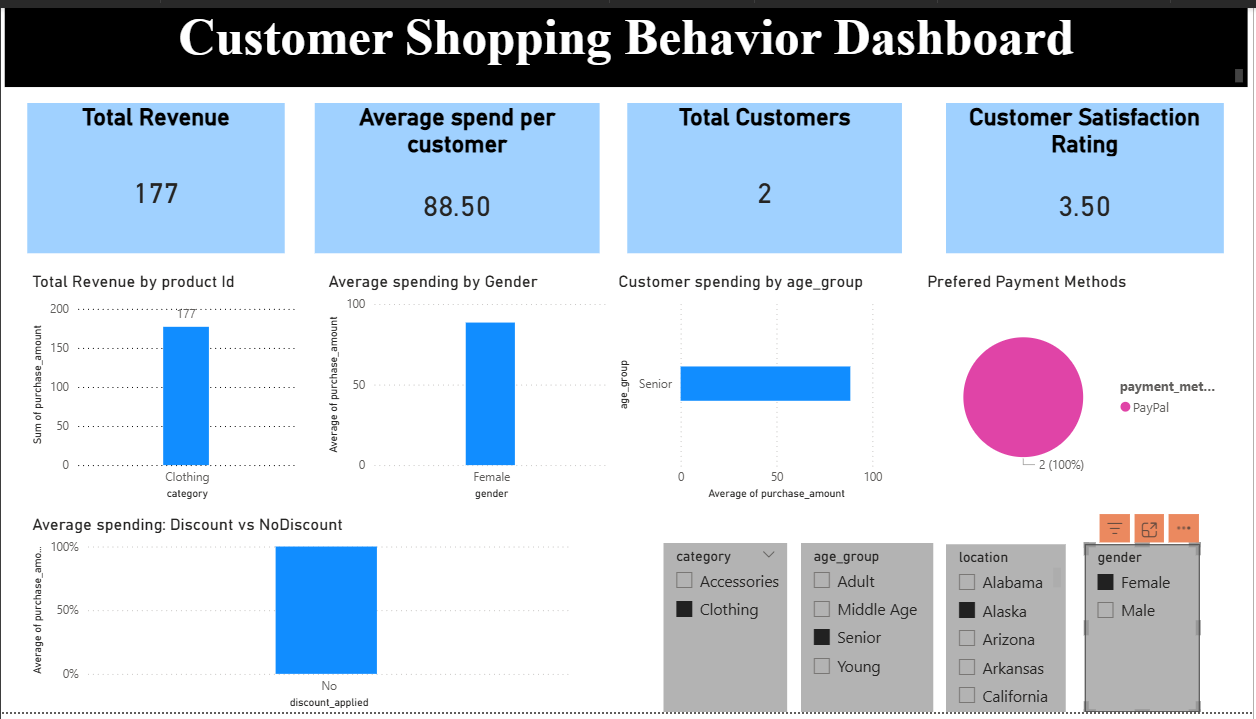

Layout of this report page (visuals, bound fields, positions):
{"tool":"powerbi","page":{"name":"Project_01","canvas":[1280,720],"ordinal":0},"visuals":[{"type":"textbox","title":"Customer  Shopping Behavior Dashboard","box":[4.1,0,1270.7,81],"z":0},{"type":"card","title":"Total Revenue","fields":{"Values":["Sum(customer_data.purchase_amount)"]},"box":[26.8,97.1,263.2,153.3],"z":1000},{"type":"card","title":"Average spend per customer","fields":{"Values":["Avg(customer_data.purchase_amount)"]},"box":[320.7,97.1,291.3,153.3],"z":2000},{"type":"card","title":"Total Customers","fields":{"Values":["CountNonNull(customer_data.customer_id)"]},"box":[640.1,97.1,281.1,153.3],"z":3000},{"type":"card","title":"Customer Satisfaction Rating","fields":{"Values":["Avg(customer_data.review_rating)"]},"box":[965.9,97.1,283.7,153.3],"z":4000},{"type":"columnChart","title":"Total Revenue by product Id","fields":{"Category":["customer_data.category"],"Y":["Sum(customer_data.purchase_amount)"]},"box":[26.8,269.6,279.8,237.7],"z":5000},{"type":"columnChart","title":"Average spending by Gender","fields":{"Category":["customer_data.gender"],"Y":["Avg(customer_data.purchase_amount)"]},"box":[329.6,269.6,296.4,237.7],"z":6000},{"type":"barChart","title":"Customer spending by age_group","fields":{"Category":["customer_data.age_group"],"Y":["Avg(customer_data.purchase_amount)"]},"box":[626.1,269.6,279.8,237.7],"z":7000},{"type":"pieChart","title":"Prefered Payment Methods","fields":{"Category":["customer_data.payment_method"],"Y":["CountNonNull(customer_data.customer_id)"]},"box":[941.7,269.6,307.9,237.7],"z":8000},{"type":"hundredPercentStackedColumnChart","title":"Average spending: Discount vs NoDiscount","fields":{"Category":["customer_data.discount_applied"],"Y":["Avg(customer_data.purchase_amount)"]},"box":[26.8,517.5,559.6,203.2],"z":9000},{"type":"slicer","fields":{"Values":["customer_data.gender"]},"box":[1107.8,548.1,117.5,172.5],"z":10000},{"type":"slicer","fields":{"Values":["customer_data.category"]},"box":[677.2,546.9,126.5,172.5],"z":11000},{"type":"slicer","fields":{"Values":["customer_data.age_group"]},"box":[817.7,546.9,135.4,172.5],"z":12000},{"type":"slicer","fields":{"Values":["customer_data.location"]},"box":[965.9,548.1,122.7,172.5],"z":13000}]}

Visuals, with their boxes in screenshot pixels (x1, y1, x2, y2), scaled from the page's 1280x720 canvas onto the 1256x719 screenshot:
"Customer  Shopping Behavior Dashboard" textbox: bbox(4, 0, 1251, 81)
"Total Revenue" card: bbox(26, 97, 285, 250)
"Average spend per customer" card: bbox(315, 97, 601, 250)
"Total Customers" card: bbox(628, 97, 904, 250)
"Customer Satisfaction Rating" card: bbox(948, 97, 1226, 250)
"Total Revenue by product Id" columnChart: bbox(26, 269, 301, 507)
"Average spending by Gender" columnChart: bbox(323, 269, 614, 507)
"Customer spending by age_group" barChart: bbox(614, 269, 889, 507)
"Prefered Payment Methods" pieChart: bbox(924, 269, 1226, 507)
"Average spending: Discount vs NoDiscount" hundredPercentStackedColumnChart: bbox(26, 517, 575, 718)
slicer - customer_data.gender: bbox(1087, 547, 1202, 718)
slicer - customer_data.category: bbox(665, 546, 789, 718)
slicer - customer_data.age_group: bbox(802, 546, 935, 718)
slicer - customer_data.location: bbox(948, 547, 1068, 718)
